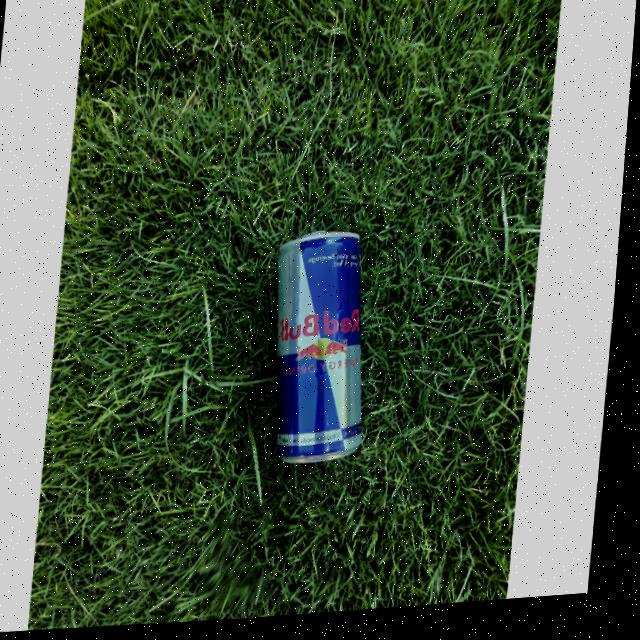Redbull: (265, 236, 387, 472)
